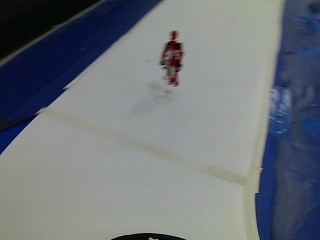pedestrian: (158, 25, 186, 84)
